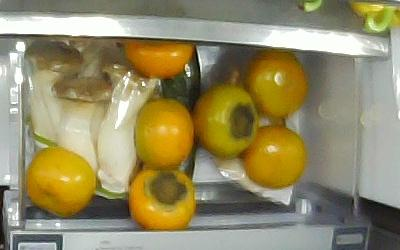persimmon: (25, 147, 95, 217), (193, 85, 259, 158), (247, 49, 309, 118), (129, 165, 195, 228), (134, 98, 193, 168), (242, 125, 307, 188), (121, 41, 195, 79)
